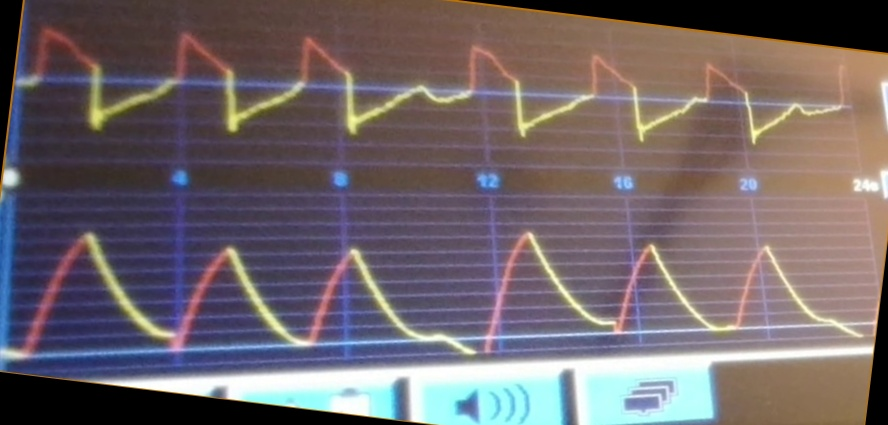Ineffective_effort Flow: (26, 20, 843, 152)
Ineffective_effort Volume: (16, 217, 863, 350)
